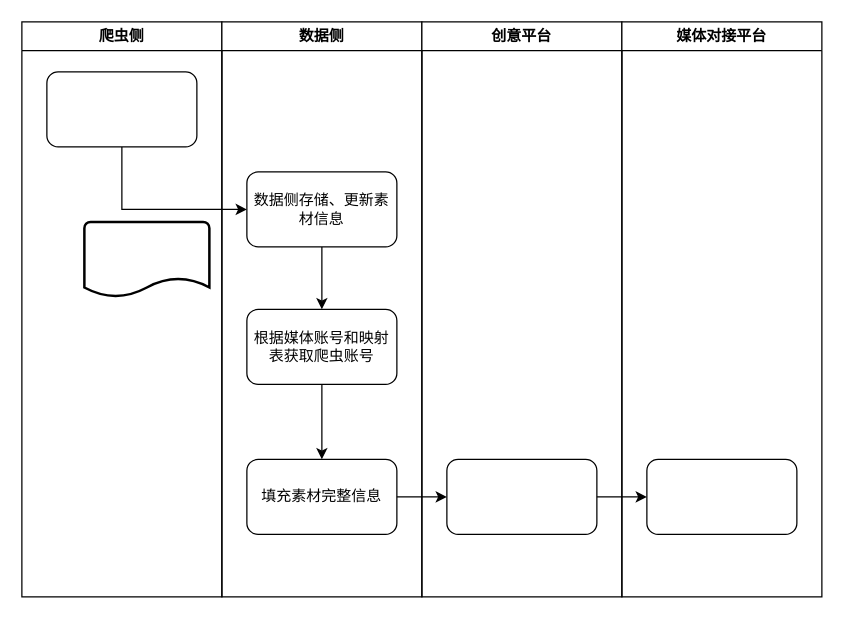
Image size: 844x619. Some labels were removed from this diagram. Here are the shapes that lost their labels. From the top down, the centre of each, then its label:
At (121,109): "从云天获取到所有素材的信息，包括永久的缩略图和素材链接".
At (146,259): "没有上传到云天的头条素材会返回空预览链接".
At (521,496): "通过接口获取到数据侧的素材信息".
At (721,496): "获取未上传到云天的头条素材缩略图和素材预览链接".
